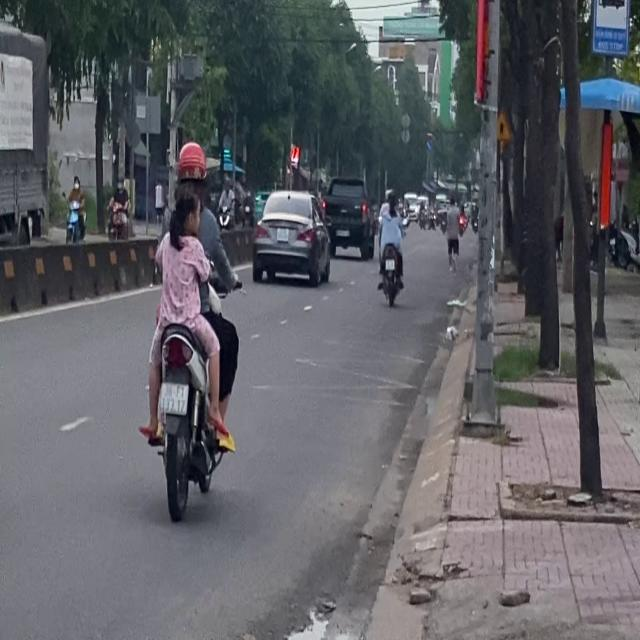helmet: (174, 140, 206, 196)
licenseplate: (138, 137, 240, 518)
motorcyclist: (171, 186, 202, 241)
nohelmet: (159, 382, 187, 412)
